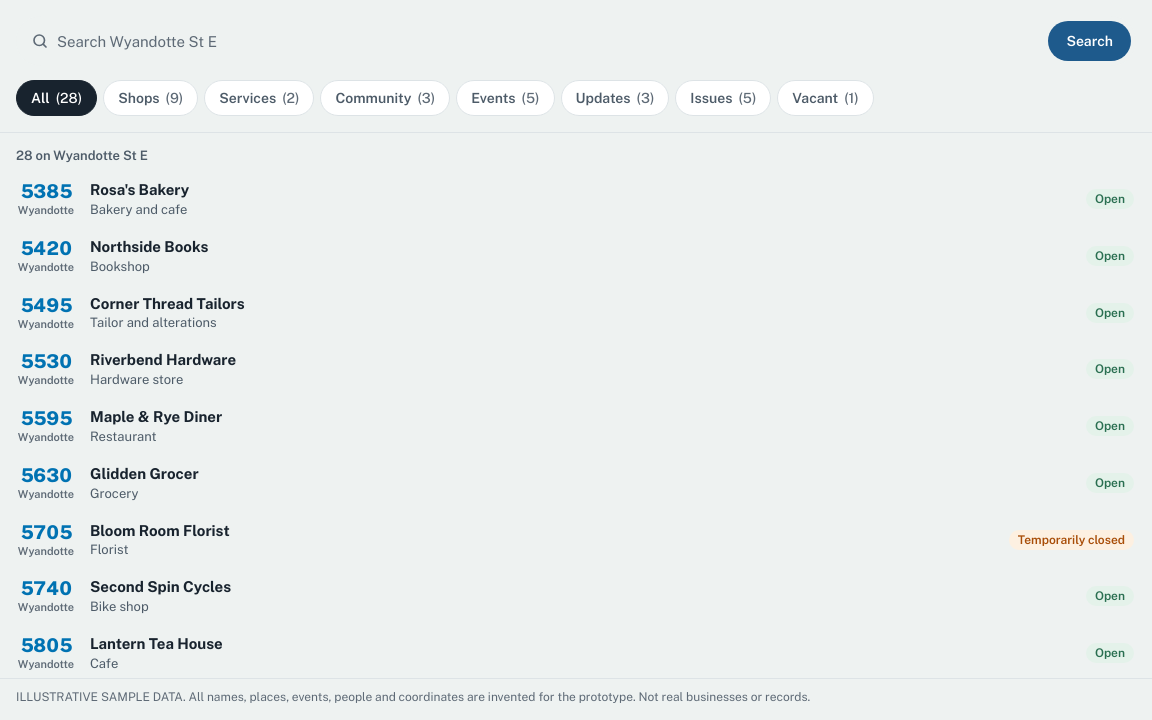
Test: SearchAndFilters › shows a friendly message when nothing matches
Step 1. Type "zzzz" into the field named "Search the map" → (550, 41), box [57,21,1042,61]
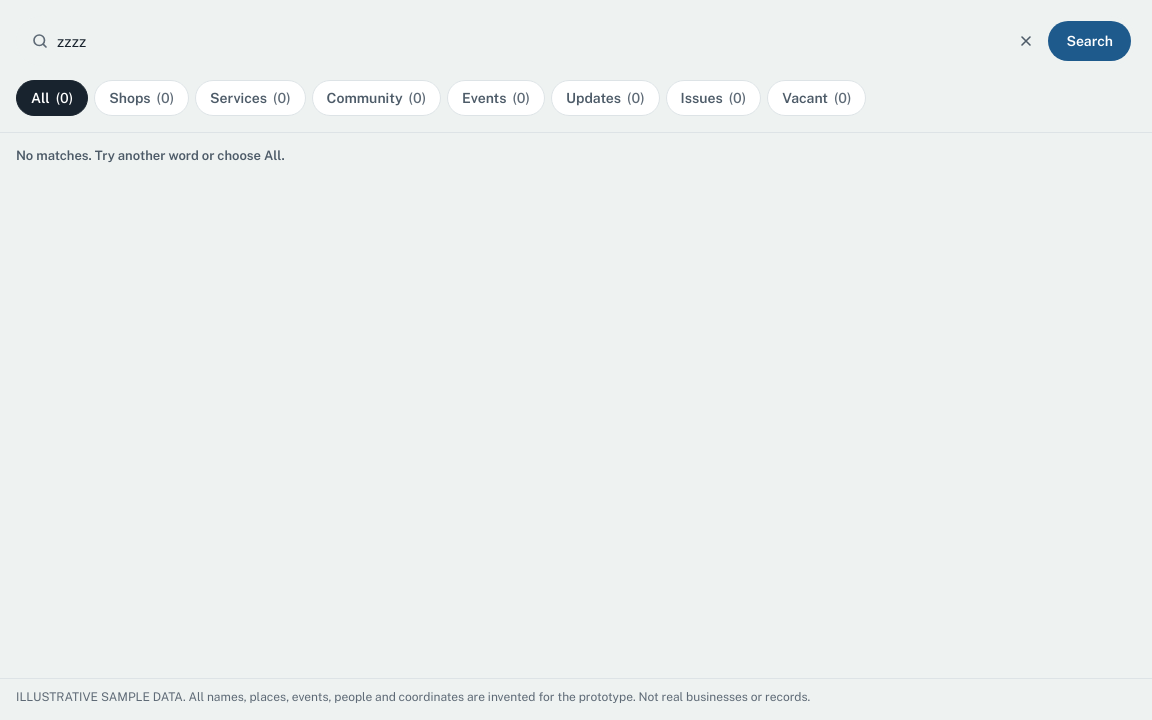
Check: the text "No matches. Try another word or choose All." is shown, box [16,148,285,163]
